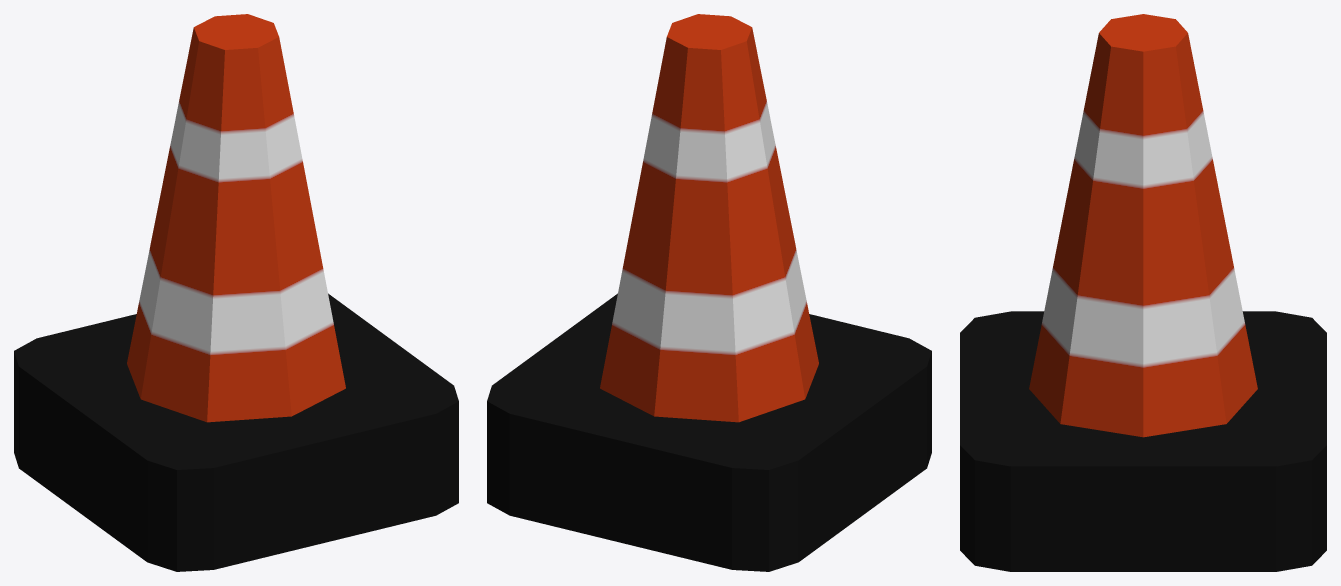
File: Cone_MOD.fbx
The picture shows the model from 3 angles, left to right: view 1: azimuth 30°, elevation 25°; view 2: azimuth 150°, elevation 25°; view 3: azimuth 270°, elevation 25°; orthographic projection. The views are drawn at different scales.
Visible parts, largest first — view 1: Cone; view 2: Cone; view 3: Cone.
Boxes of the visible parts, bbox=[...] form: Cone: bbox=[14, 14, 458, 571]; Cone: bbox=[487, 14, 931, 571]; Cone: bbox=[960, 14, 1326, 571].
Bounding box in the file's own units: 50 × 69.44 × 50.
